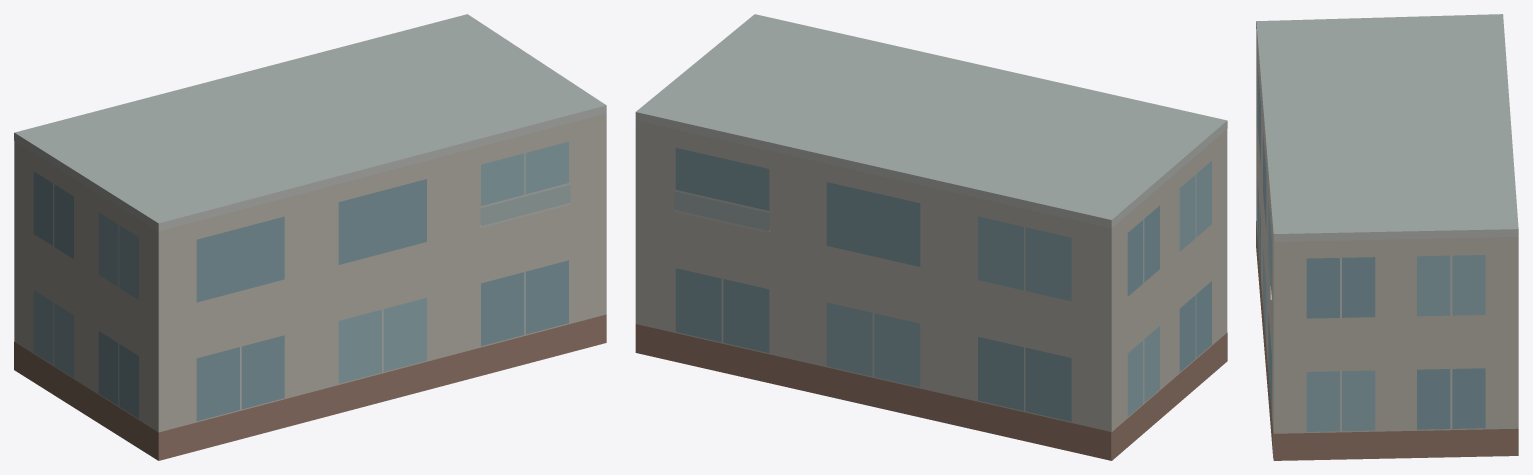
Rendered from survey-upis-32495591.glb.
The picture shows the model from 3 angles, left to right: view 1: azimuth 30°, elevation 25°; view 2: azimuth 150°, elevation 25°; view 3: azimuth 270°, elevation 25°; orthographic projection. The views are drawn at different scales.
Parts seen in each view (by area): view 1: survey-upis-32495591.tmp; view 2: survey-upis-32495591.tmp; view 3: survey-upis-32495591.tmp.
Boxes of the visible parts, box(x1,y1,x2,y2) form: survey-upis-32495591.tmp: box(14, 14, 606, 460); survey-upis-32495591.tmp: box(635, 14, 1227, 460); survey-upis-32495591.tmp: box(1256, 14, 1518, 460).
Bounding box in the file's own units: 15 × 7.2 × 7.56.
